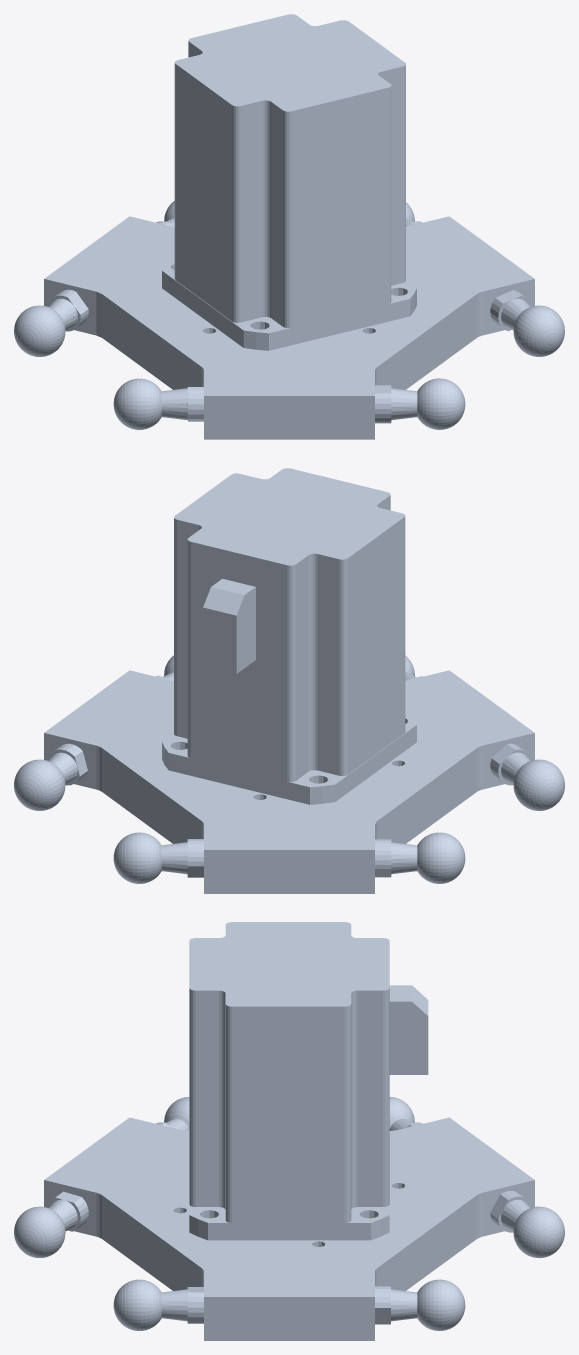
Rendered from End11.dae.
The picture shows the model from 3 angles, top to bottom: view 1: azimuth 30°, elevation 25°; view 2: azimuth 150°, elevation 25°; view 3: azimuth 270°, elevation 25°; orthographic projection.
Visible parts, largest first — view 1: End11; view 2: End11; view 3: End11.
Boxes of the visible parts, box(x1,y1,x2,y2) form: End11: box(14, 14, 564, 439); End11: box(14, 468, 564, 893); End11: box(14, 922, 564, 1340).
Bounding box in the file's own units: 0.152 × 0.1707 × 0.11.
